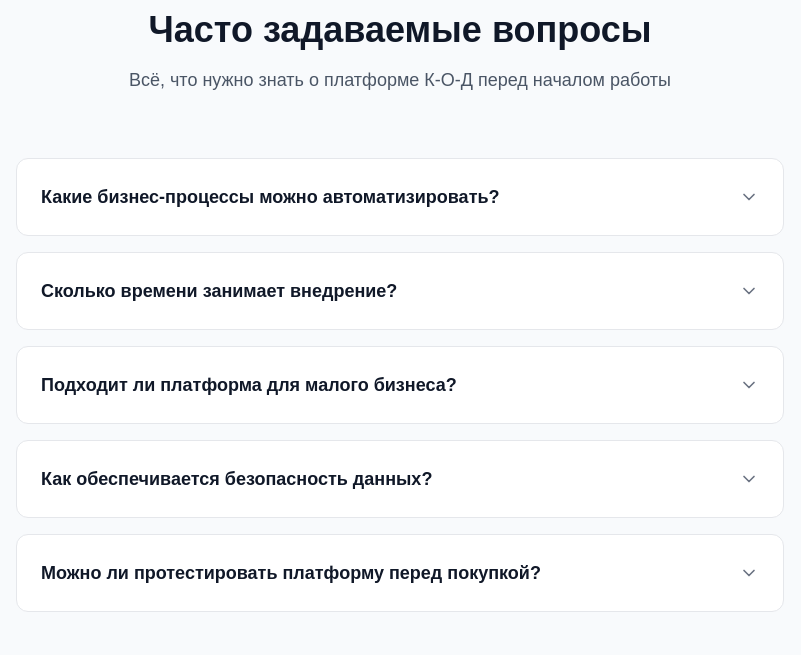
Test: FAQ › shows new answer when clicking another question
The width and height of the screenshot is (801, 655).
Click the button "Какие бизнес-процессы можно автоматизировать?".
click(400, 197)  # box [17,159,783,235]
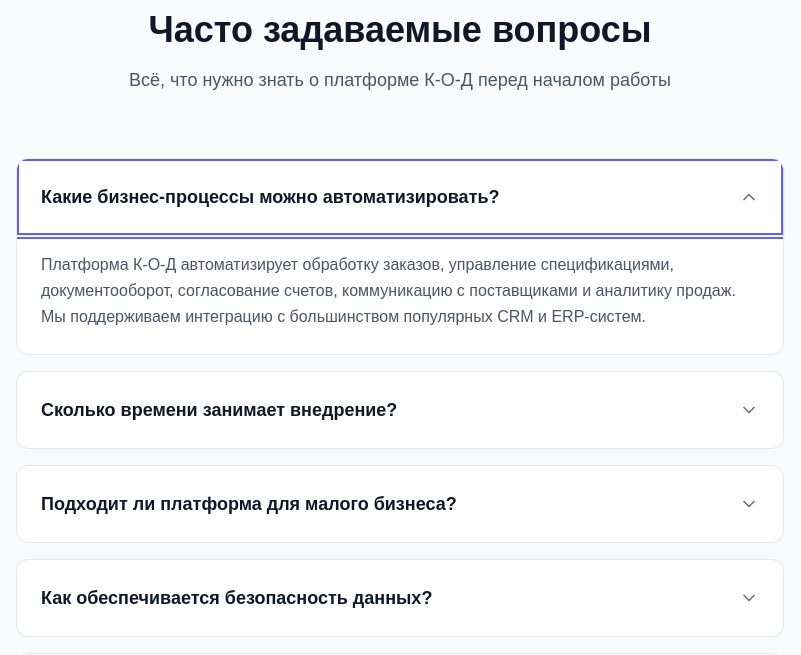
Now the button "Какие бизнес-процессы можно автоматизировать?" is expanded, box [17,159,783,235]
Click the button "Сколько времени занимает внедрение?".
click(400, 410)  # box [17,372,783,448]
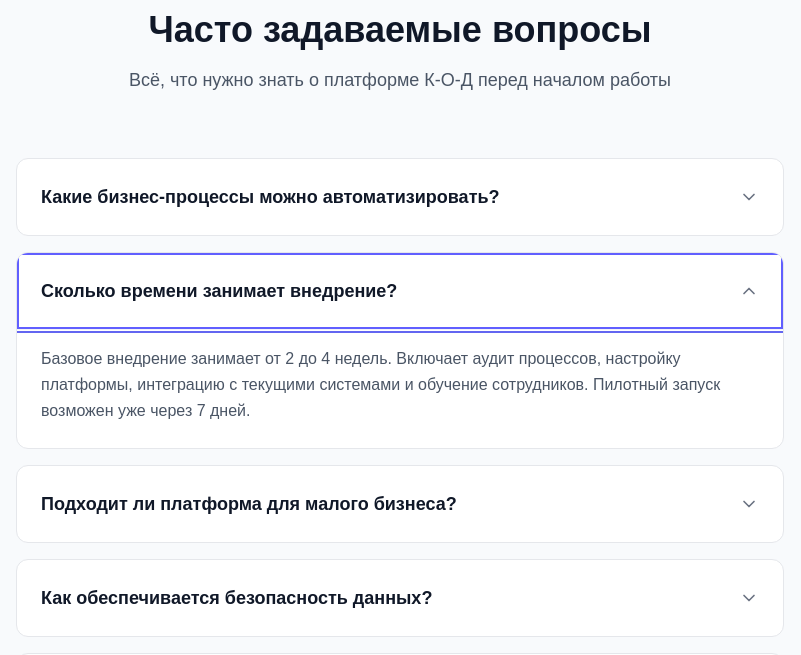
Now the button "Какие бизнес-процессы можно автоматизировать?" is collapsed, box [17,159,783,235]
Now the button "Сколько времени занимает внедрение?" is expanded, box [17,253,783,329]
